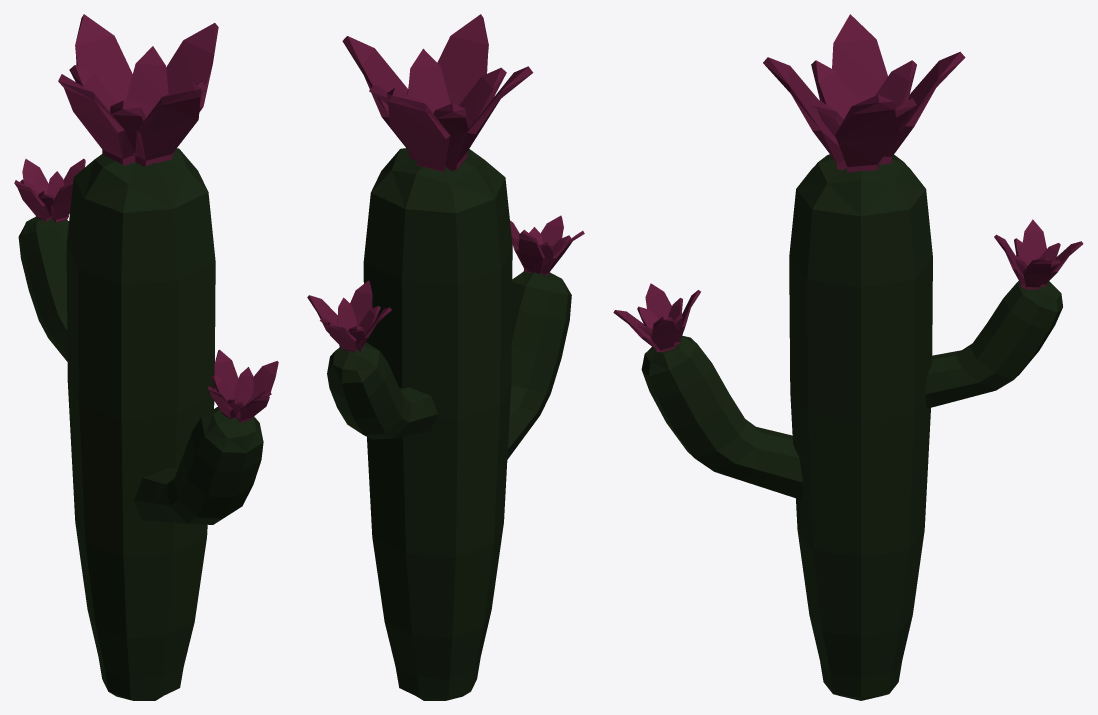
The model's file is CactusFlowers_3.obj.
3 renders of one model, left to right at view 1: azimuth 30°, elevation 25°; view 2: azimuth 150°, elevation 25°; view 3: azimuth 270°, elevation 25°, orthographic.
Visible parts, largest first — view 1: CactusFlowers_3; view 2: CactusFlowers_3; view 3: CactusFlowers_3.
Boxes of the visible parts, box(x1,y1,x2,y2) form: CactusFlowers_3: box(14, 14, 278, 700); CactusFlowers_3: box(307, 14, 584, 700); CactusFlowers_3: box(613, 14, 1083, 700).
Bounding box in the file's own units: 0.4774 × 1.67 × 1.12.
